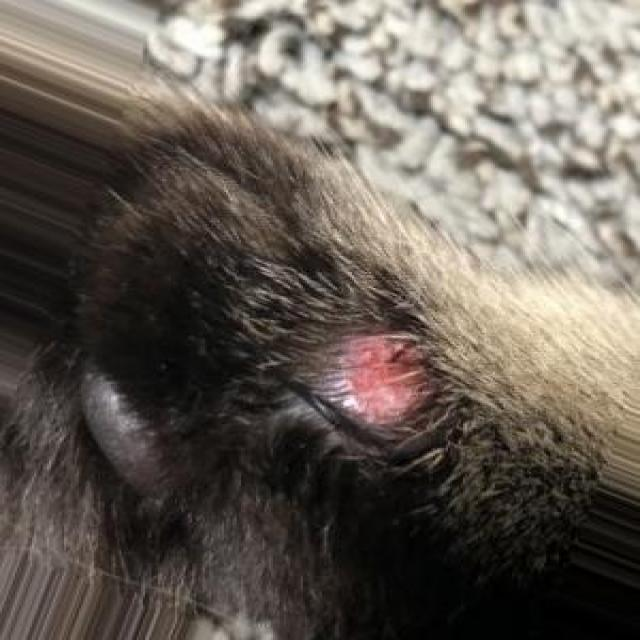hac lao: (292, 285, 460, 488)
